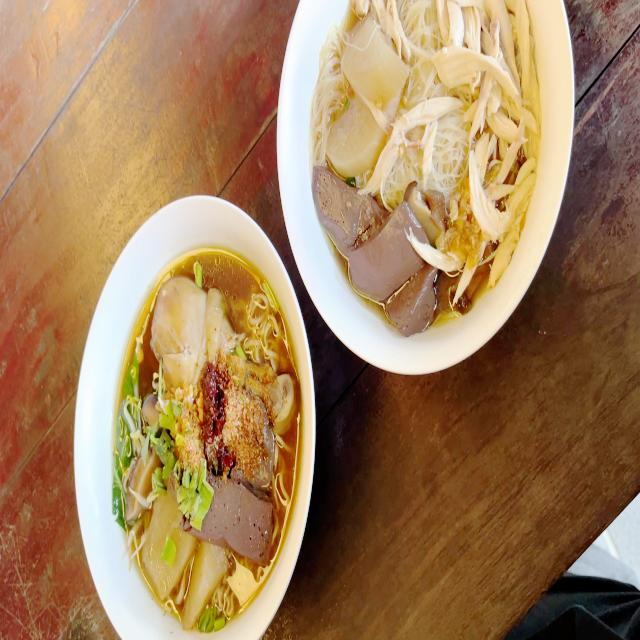boiled_chicken_blood_jelly: (320, 175, 378, 252), (352, 217, 418, 284), (212, 481, 269, 550), (398, 267, 434, 329)
chicken_drumstick: (148, 276, 294, 428)
chicken_shredded: (448, 2, 532, 248), (366, 83, 458, 187)
daikon_radish: (342, 19, 409, 116), (145, 494, 188, 585), (328, 94, 376, 174), (184, 548, 220, 619)
noodle: (308, 0, 547, 306), (125, 265, 307, 600)
